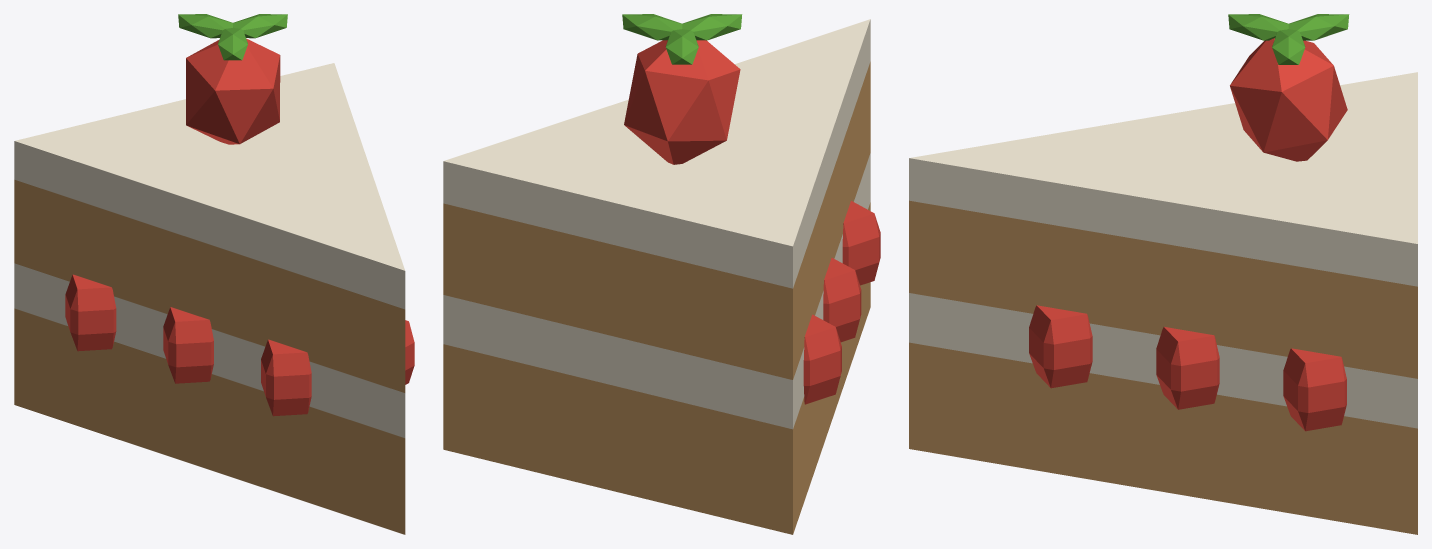
Rendered from cake_slice.glb.
3 views of the same model, side by side, from view 1: azimuth 30°, elevation 25°; view 2: azimuth 150°, elevation 25°; view 3: azimuth 270°, elevation 25° (orthographic). The views are drawn at different scales.
Parts seen in each view (by area): view 1: cake_slice; view 2: cake_slice; view 3: cake_slice.
Part boxes in pixels (<box>): cake_slice: <box>14,14,414,534</box>; cake_slice: <box>443,14,880,534</box>; cake_slice: <box>909,14,1417,534</box>.
Bounding box in the file's own units: 0.104 × 0.12 × 0.13.
